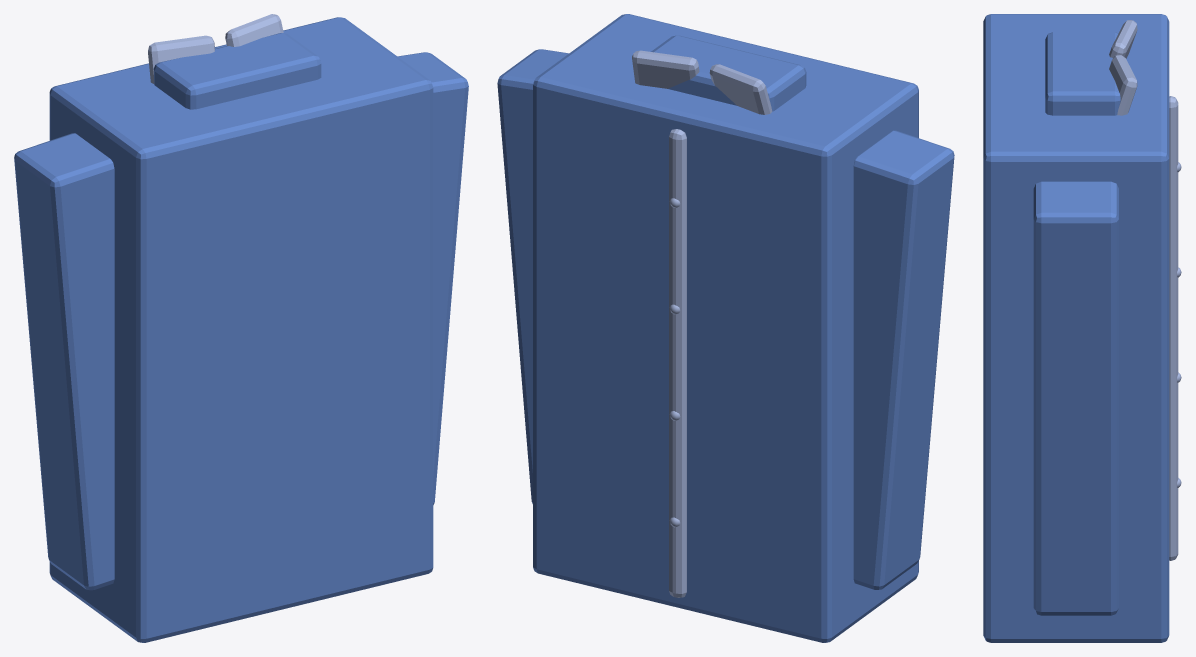
The model's file is VM-CAB-010.glb.
3 renders of one model, left to right at view 1: azimuth 30°, elevation 25°; view 2: azimuth 150°, elevation 25°; view 3: azimuth 270°, elevation 25°, orthographic.
Visible parts, largest first — view 1: Camisa Slim Caballero Azul Cobalto; view 2: Camisa Slim Caballero Azul Cobalto; view 3: Camisa Slim Caballero Azul Cobalto.
Boxes of the visible parts, x1,y1,x2,y2 form: Camisa Slim Caballero Azul Cobalto: [14, 14, 468, 642]; Camisa Slim Caballero Azul Cobalto: [497, 14, 954, 642]; Camisa Slim Caballero Azul Cobalto: [983, 14, 1181, 642].
Size of the model in its own units: 0.6702 by 0.8087 by 0.2767.
